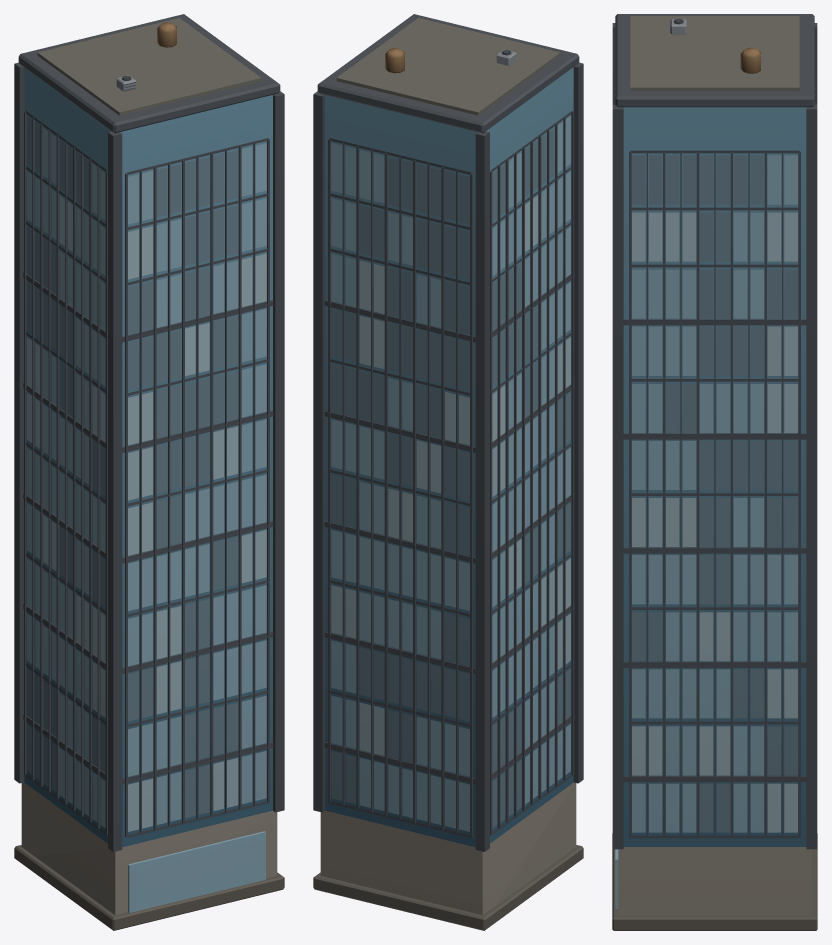
The model's file is twin_tower_01.glb.
The picture shows the model from 3 angles, left to right: view 1: azimuth 30°, elevation 25°; view 2: azimuth 150°, elevation 25°; view 3: azimuth 270°, elevation 25°; orthographic projection. The views are drawn at different scales.
Parts seen in each view (by area): view 1: twin_tower_01; view 2: twin_tower_01; view 3: twin_tower_01.
Part boxes in pixels (x1,y1,x2,y2): twin_tower_01: (14, 14, 284, 930); twin_tower_01: (313, 14, 583, 930); twin_tower_01: (612, 14, 817, 930).
Bounding box in the file's own units: 6.8 × 31.26 × 6.8.
